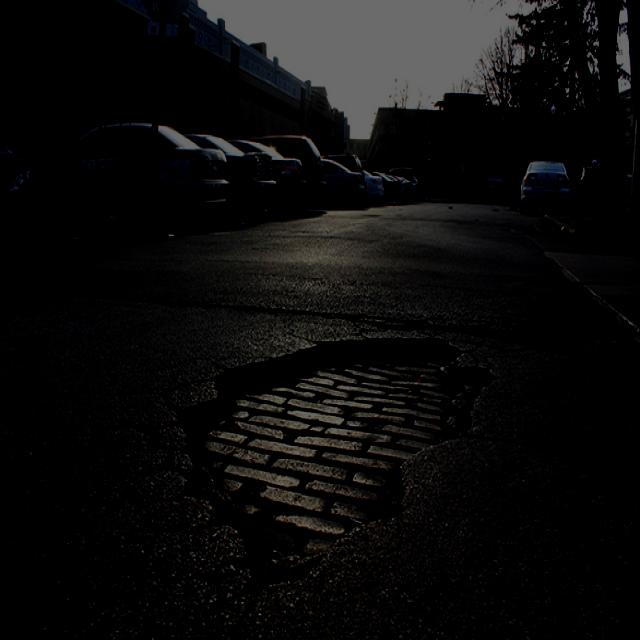Pothole: (126, 265, 610, 640)
